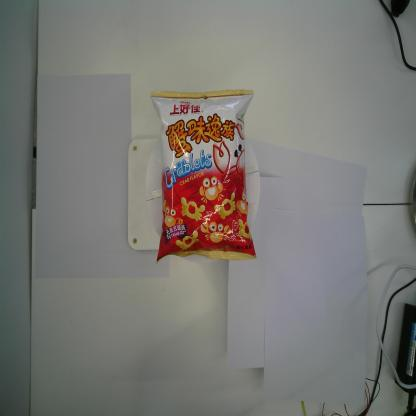Puffed Food: (149, 86, 257, 265)
